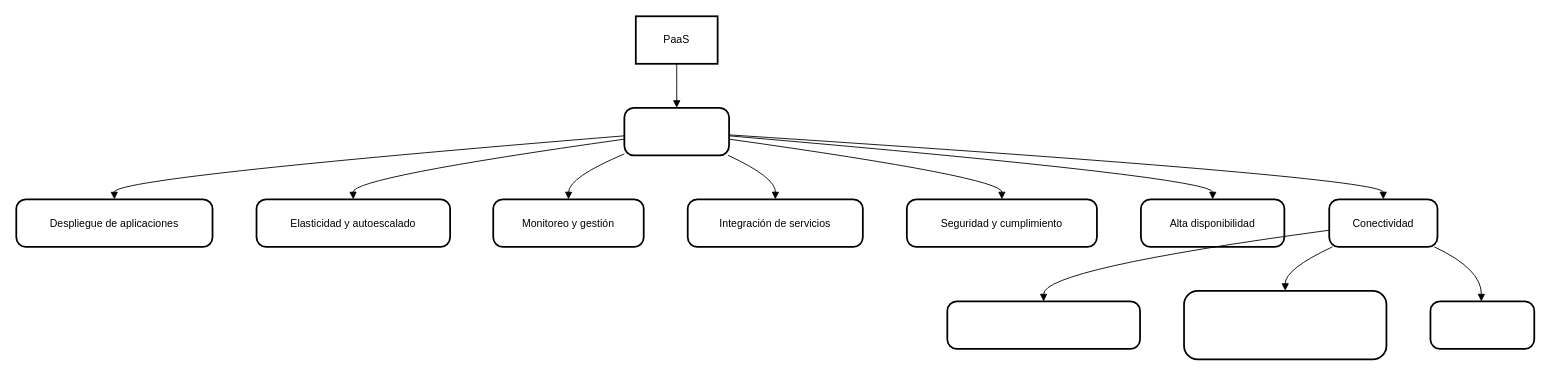
The diagram is 1550 pixels wide and 375 high, and some of its shapes have lost their labels. The centre of each missing label's shape, as x and y in pixels:
"Capacidades" belongs at point 676,131.
"Conexión a bases de datos" belongs at point 1043,324.
"Integración con servicios externos" belongs at point 1285,325.
"Redes y VPN" belongs at point 1482,324.
